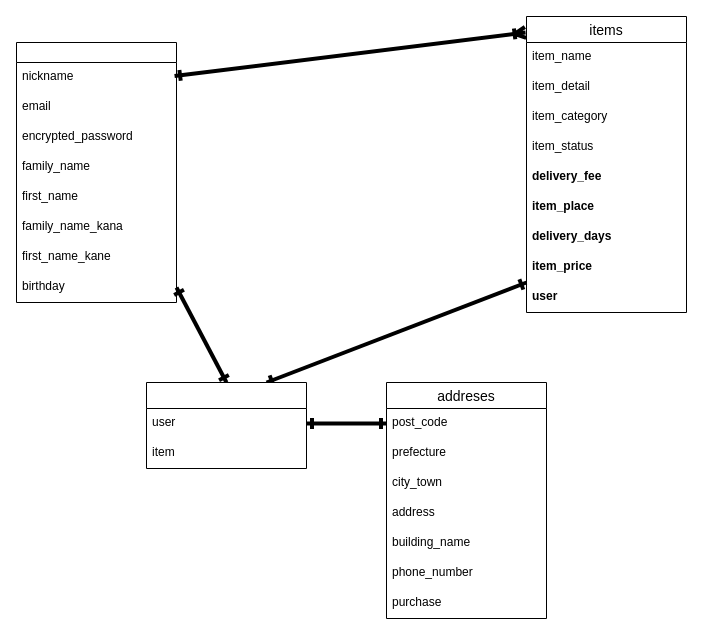
The diagram is 703 pixels wide and 635 high, and some of its shapes have lost their labels. Here are the shapes that lost their labels. From the top down, the box of each, then its label:
(16, 42, 176, 302): users
(146, 382, 306, 468): purchases
